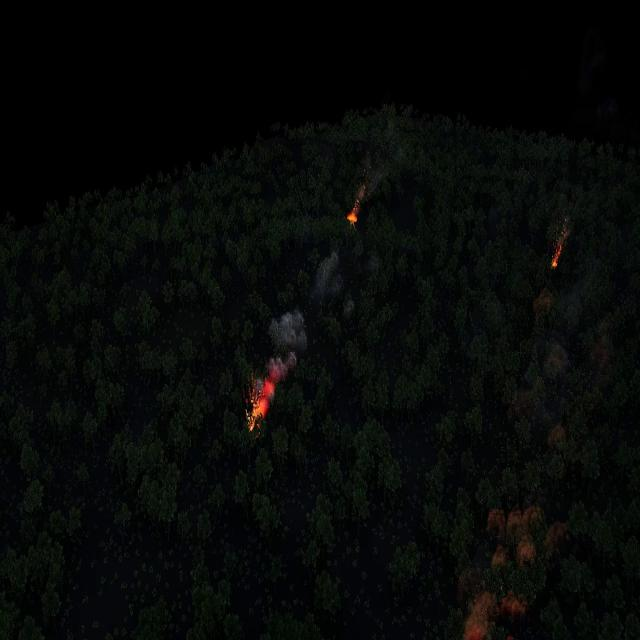fire: (245, 378, 274, 434), (552, 244, 563, 268), (348, 208, 358, 224)
smoke: (253, 305, 310, 398), (464, 592, 528, 640), (486, 508, 536, 568), (312, 250, 341, 306), (357, 153, 381, 202), (555, 217, 572, 246), (363, 252, 379, 275), (344, 299, 356, 319)
